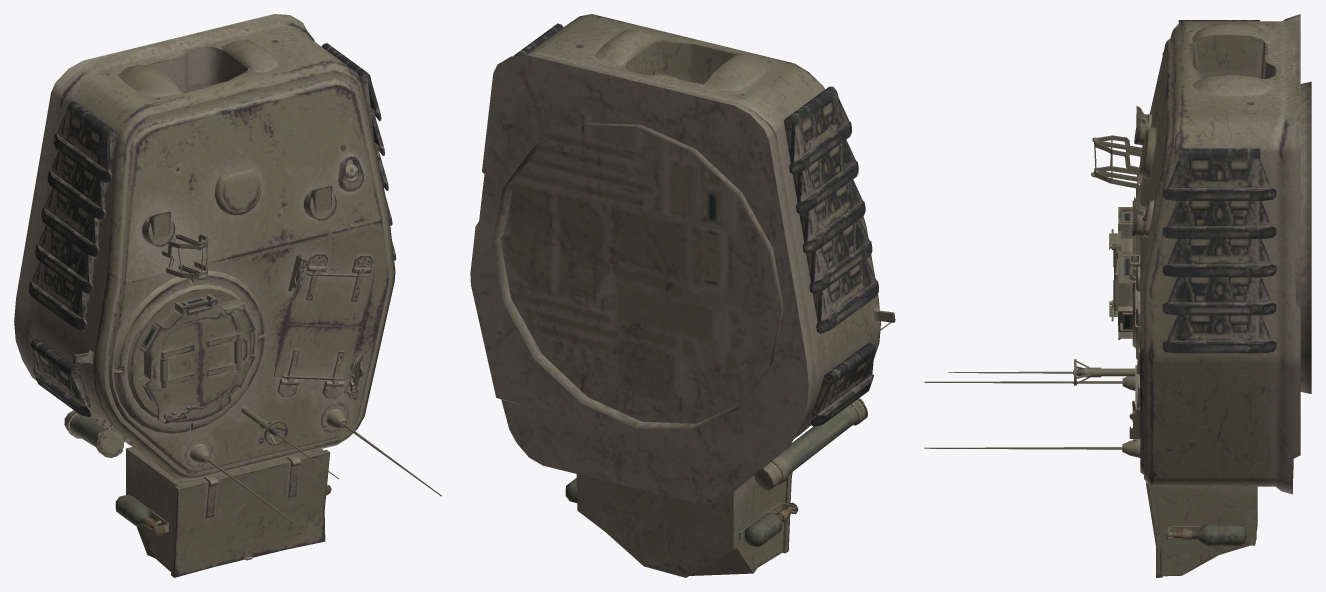
Rendered from Turret_02.glb.
3 renders of one model, left to right at view 1: azimuth 30°, elevation 25°; view 2: azimuth 150°, elevation 25°; view 3: azimuth 270°, elevation 25°, orthographic. The views are drawn at different scales.
Visible parts, largest first — view 1: set_0_group_0; view 2: set_0_group_0; view 3: set_0_group_0.
Boxes of the visible parts, bbox=[...] form: set_0_group_0: bbox=[14, 14, 441, 577]; set_0_group_0: bbox=[470, 14, 895, 577]; set_0_group_0: bbox=[924, 14, 1311, 577].
Bounding box in the file's own units: 1.91 × 2.68 × 1.92.
Materials: 1 (1 with a texture image).
